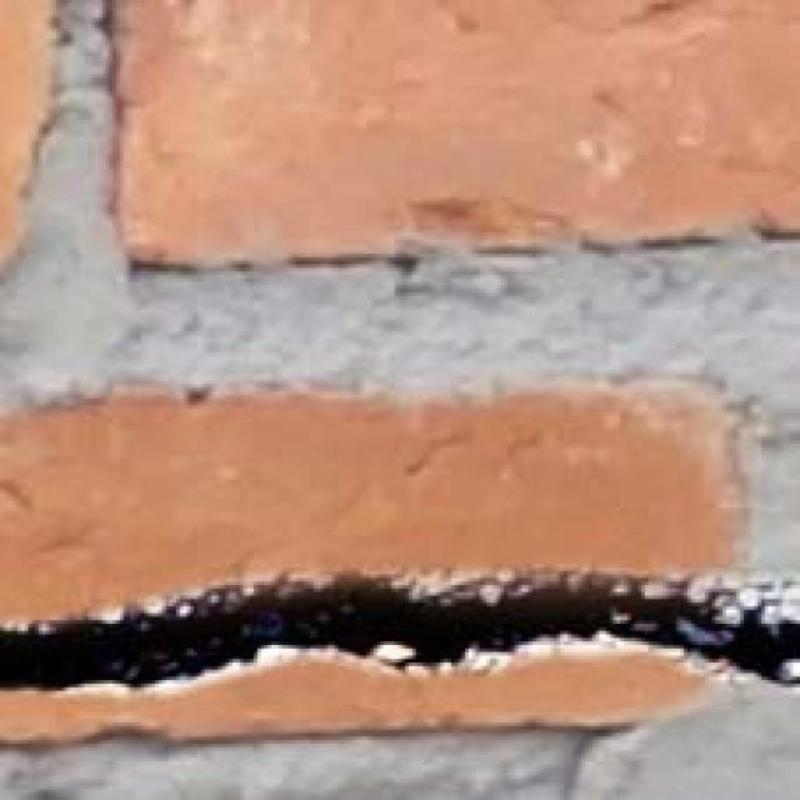pothole: (0, 573, 800, 688)
